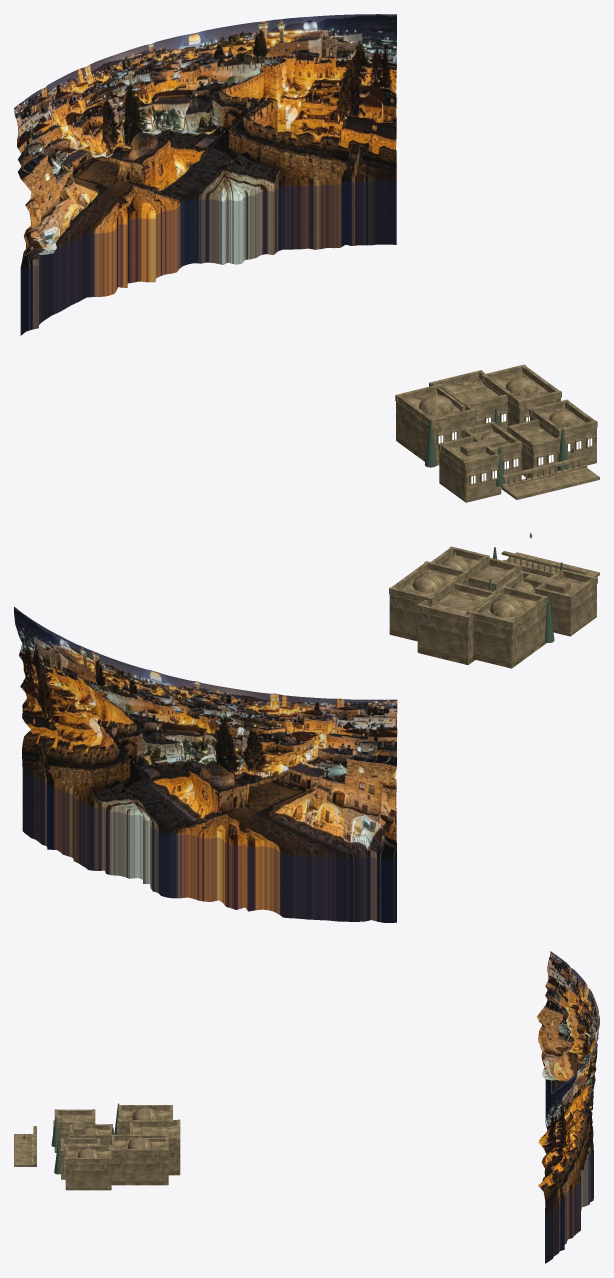
The model's file is jerusalem_3d_exterior.glb.
3 renders of one model, top to bottom at view 1: azimuth 30°, elevation 25°; view 2: azimuth 150°, elevation 25°; view 3: azimuth 270°, elevation 25°, orthographic. The views are drawn at different scales.
Parts seen in each view (by area): view 1: OldCity_3D_Horizon, House_MG_L_Body, House_FG_L_Body, Balcony_Slab, House_MG_C_Body, House_FG_R_Body, House_FG_RR_Body, House_MG_R_Body; view 2: OldCity_3D_Horizon, House_MG_L_Body, House_MG_C_Body, House_FG_L_Body, House_MG_R_Body, House_MG_L_Dome, Balcony_Slab, OldCity_ArchBridge; view 3: OldCity_3D_Horizon, House_MG_R_Body, House_FG_RR_Body, House_MG_C_Body, Balcony_Slab.
Boxes of the visible parts, box(x1,y1,x2,y2) form: OldCity_3D_Horizon: box(14, 14, 396, 335); House_MG_L_Body: box(396, 393, 476, 465); House_FG_L_Body: box(439, 446, 501, 502); Balcony_Slab: box(501, 468, 599, 499); House_MG_C_Body: box(445, 378, 507, 431); House_FG_R_Body: box(512, 426, 567, 478); House_FG_RR_Body: box(530, 408, 596, 467); House_MG_R_Body: box(482, 372, 560, 425); OldCity_3D_Horizon: box(14, 606, 397, 922); House_MG_L_Body: box(473, 594, 546, 668); House_MG_C_Body: box(417, 590, 485, 664); House_FG_L_Body: box(549, 577, 596, 636); House_MG_R_Body: box(389, 569, 468, 641); House_MG_L_Dome: box(490, 596, 524, 617); Balcony_Slab: box(506, 552, 599, 577); OldCity_ArchBridge: box(523, 573, 570, 593); OldCity_3D_Horizon: box(536, 951, 599, 1263); House_MG_R_Body: box(111, 1140, 168, 1185); House_FG_RR_Body: box(65, 1151, 111, 1190); House_MG_C_Body: box(133, 1125, 180, 1175); Balcony_Slab: box(14, 1134, 36, 1166).
Size of the model in its own units: 24.8 by 14 by 43.16.
Materials: 8 (5 with a texture image).
